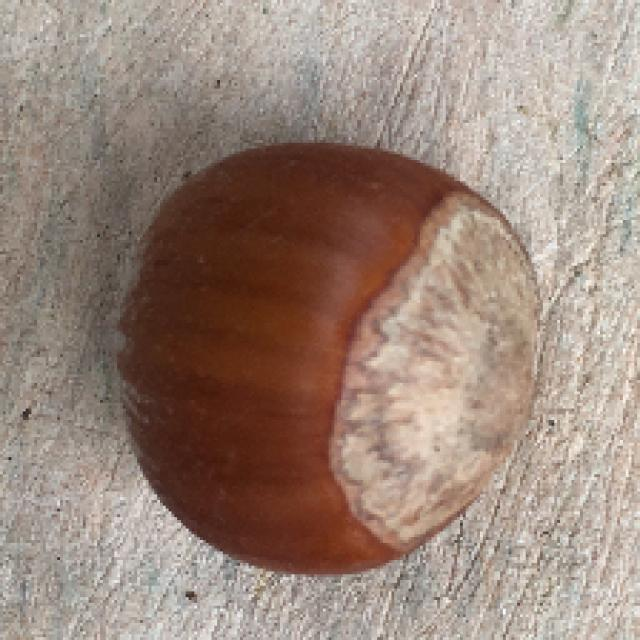qualityHazelnut: (103, 135, 546, 592)
